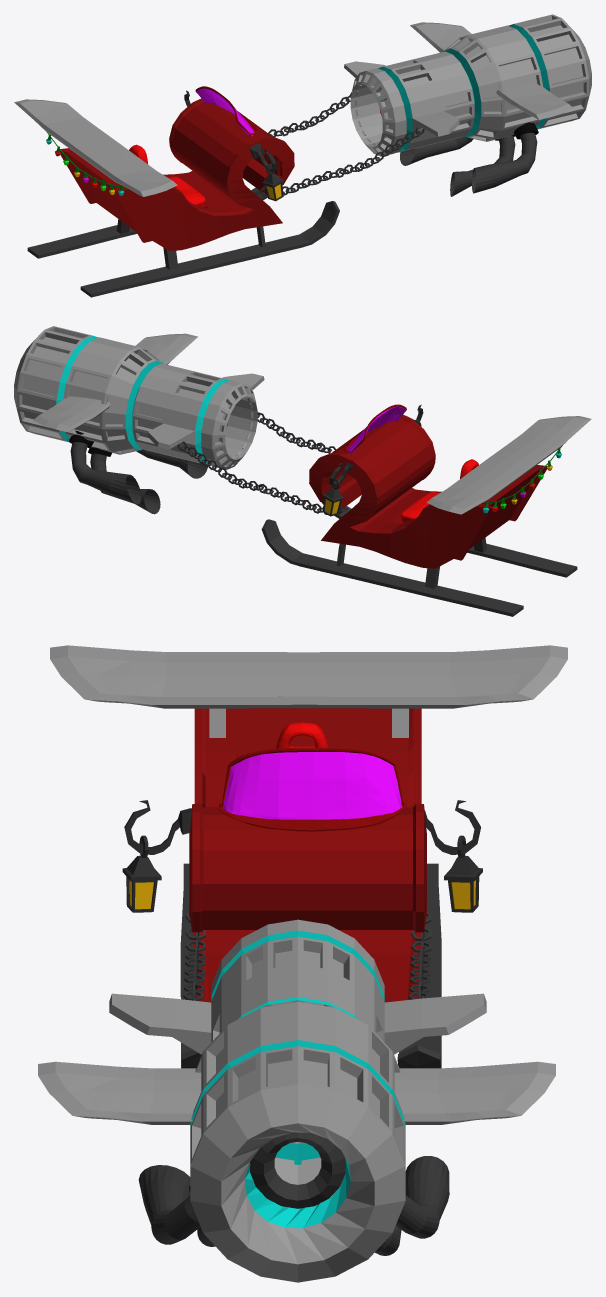
Rendered from Ricket_ride.obj.
The picture shows the model from 3 angles, top to bottom: view 1: azimuth 30°, elevation 25°; view 2: azimuth 150°, elevation 25°; view 3: azimuth 270°, elevation 25°; orthographic projection. The views are drawn at different scales.
Visible parts, largest first — view 1: Cylinder099, Object798, fin, Box492, fin001, Cylinder104, Box493, Tube032, Cylinder103, Cylinder105, Light_hook003, Tube031 (+3 smaller); view 2: Cylinder099, Object798, fin, Box493, fin001, Cylinder102, Box492, Tube031, Cylinder103, Light_hook009, Cylinder105, Tube032 (+3 smaller); view 3: Cylinder099, Object798, fin, fin001, glass003, Cylinder104, Cylinder102, Box493, windshild_box001, Light_hook003, Light_hook009, Box492 (+3 smaller).
Boxes of the visible parts, left/top/right/bottom form: Cylinder099: left=344, top=14, right=591, bottom=156; Object798: left=60, top=98, right=294, bottom=250; fin: left=14, top=99, right=177, bottom=196; Box492: left=80, top=201, right=339, bottom=297; fin001: left=410, top=22, right=573, bottom=119; Cylinder104: left=471, top=122, right=538, bottom=193; Box493: left=27, top=187, right=267, bottom=258; Tube032: left=254, top=128, right=424, bottom=196; Cylinder103: left=400, top=136, right=473, bottom=165; Cylinder105: left=450, top=134, right=515, bottom=196; Light_hook003: left=249, top=143, right=284, bottom=201; Tube031: left=268, top=92, right=351, bottom=137; Cylinder099: left=14, top=326, right=264, bottom=469; Object798: left=309, top=414, right=547, bottom=568; fin: left=426, top=416, right=591, bottom=514; Box493: left=261, top=519, right=523, bottom=616; fin001: left=33, top=333, right=197, bottom=432; Cylinder102: left=69, top=430, right=141, bottom=504; Box492: left=322, top=503, right=577, bottom=577; Tube031: left=177, top=441, right=347, bottom=514; Cylinder103: left=88, top=447, right=160, bottom=514; Light_hook009: left=322, top=462, right=353, bottom=516; Cylinder105: left=136, top=449, right=207, bottom=478; Tube032: left=257, top=412, right=336, bottom=453; Cylinder099: left=109, top=919, right=486, bottom=1282; Object798: left=189, top=708, right=426, bottom=1002; fin: left=50, top=645, right=567, bottom=737; fin001: left=38, top=1061, right=555, bottom=1124; glass003: left=223, top=752, right=402, bottom=819; Cylinder104: left=138, top=1165, right=200, bottom=1244; Cylinder102: left=396, top=1156, right=449, bottom=1238; Box493: left=397, top=863, right=441, bottom=1068; windshild_box001: left=218, top=747, right=407, bottom=831; Light_hook003: left=122, top=800, right=191, bottom=912; Light_hook009: left=412, top=800, right=482, bottom=912; Box492: left=180, top=863, right=201, bottom=1068.
Bounding box in the file's own units: 14.68 × 3.88 × 6.6.
